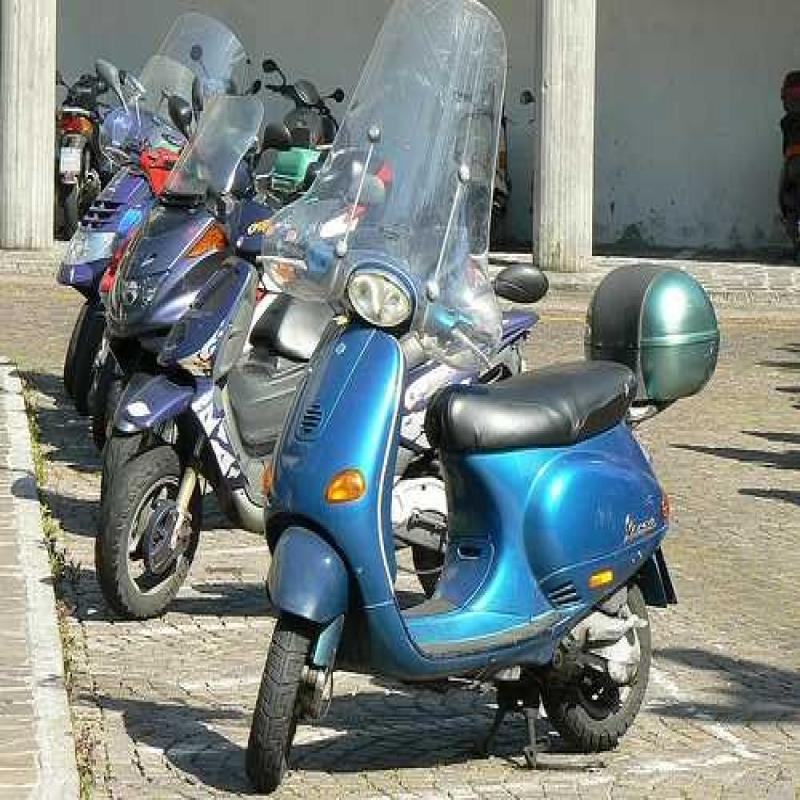bike: (242, 249, 696, 762), (102, 164, 267, 642)
